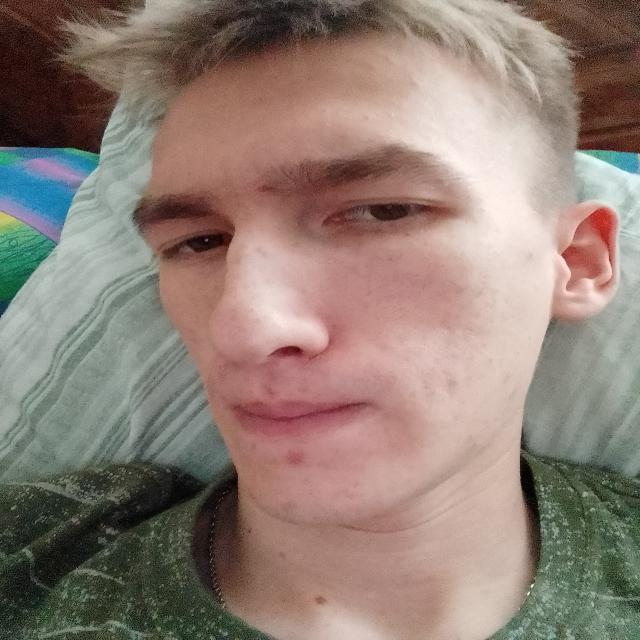Acne: (270, 447, 326, 488), (304, 588, 352, 623)
